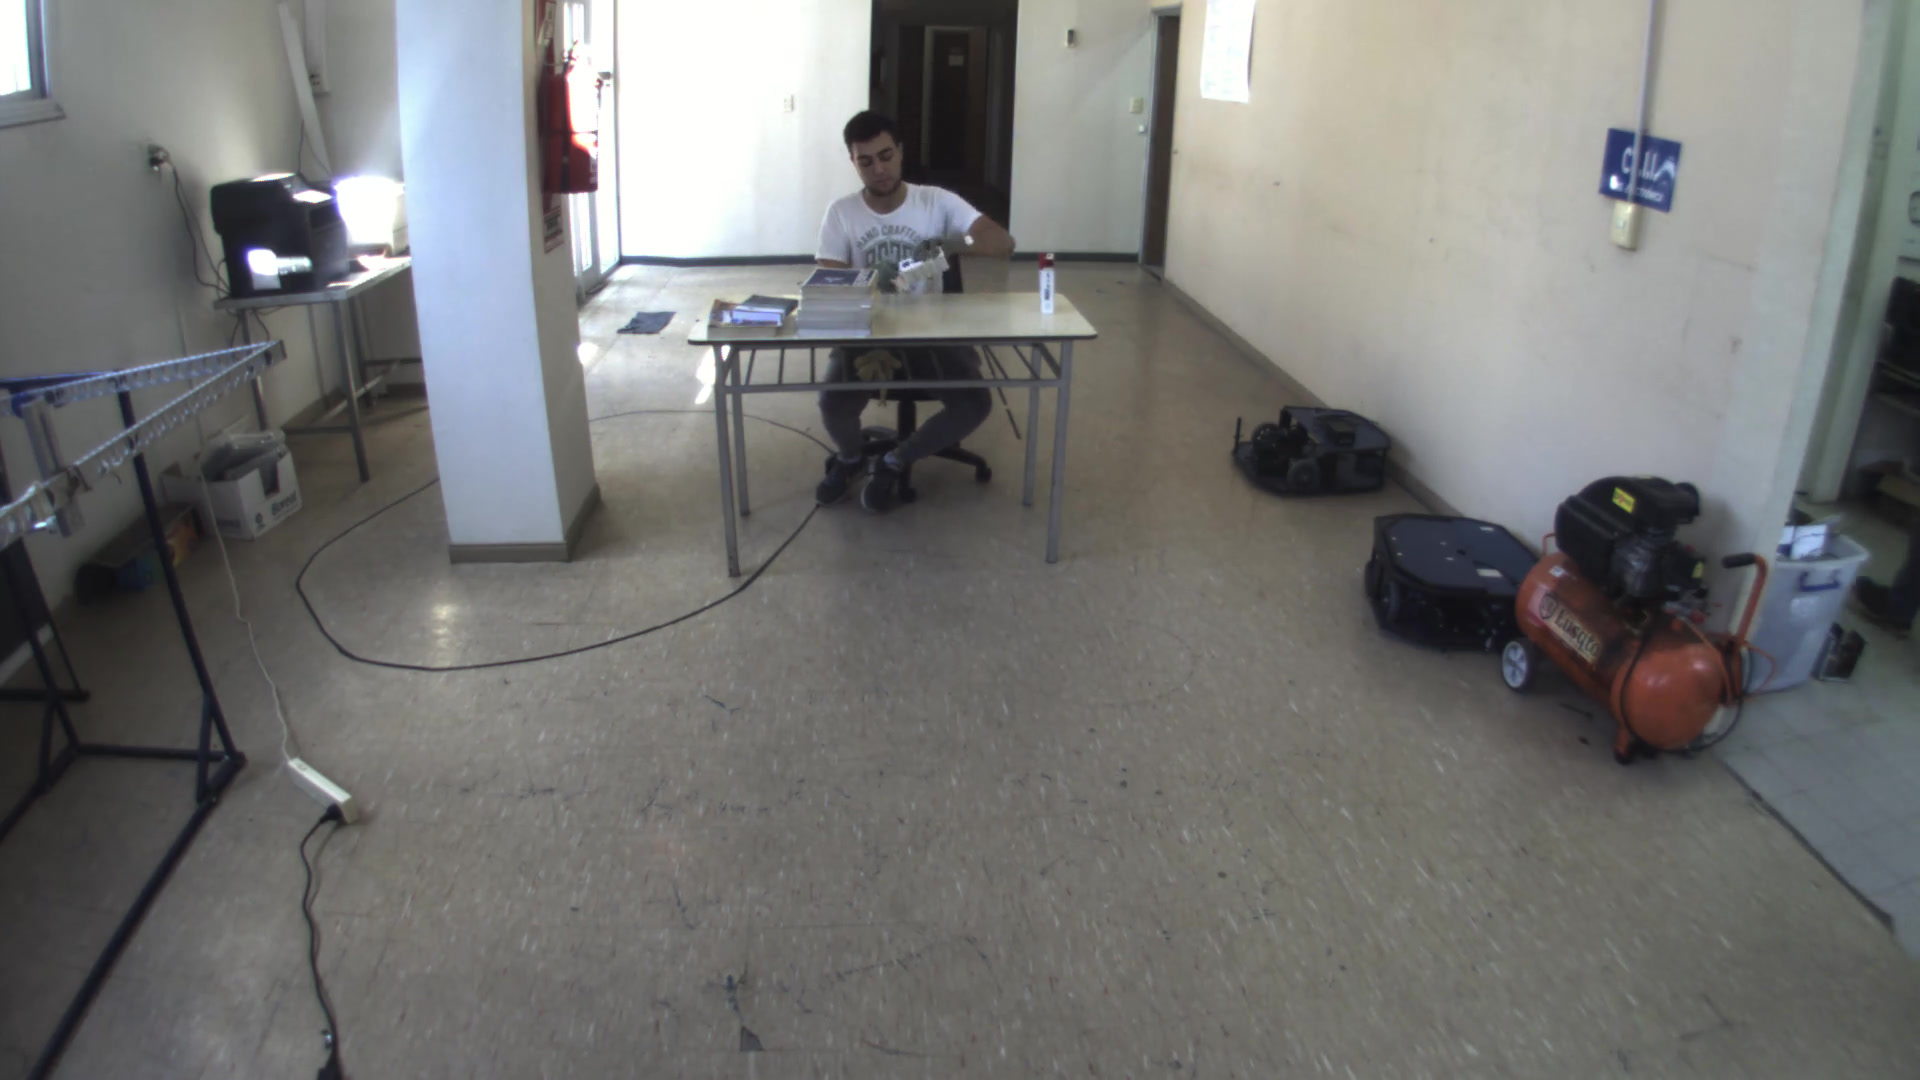hand: (906, 229, 972, 270)
